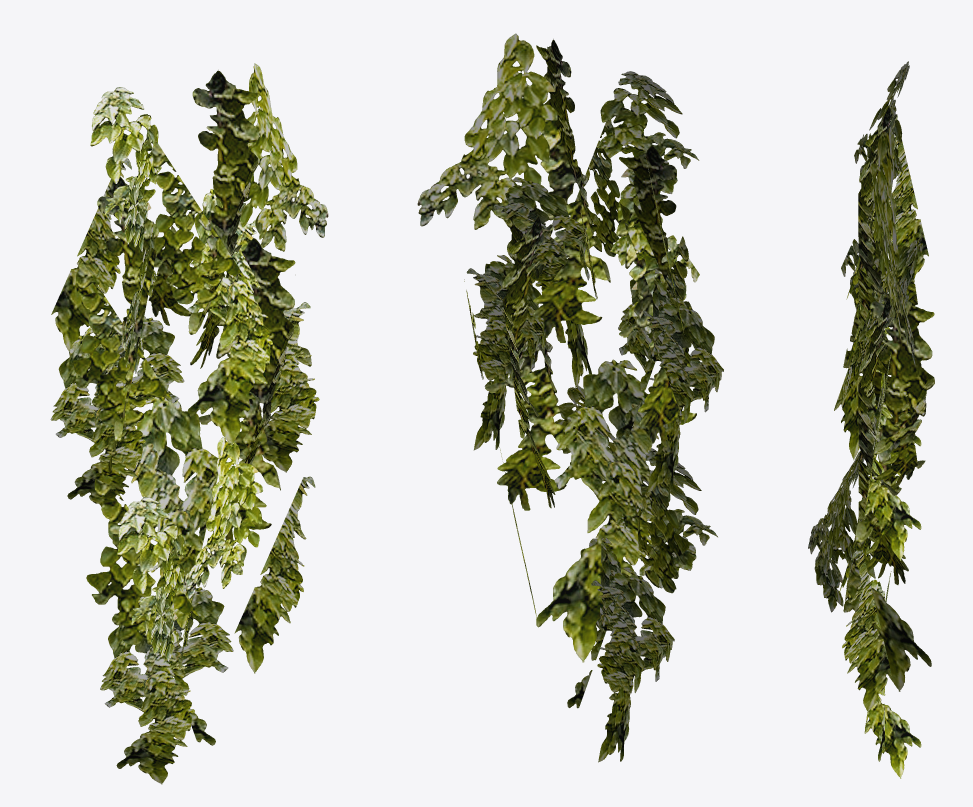
The model's file is ivy13_lod2.fbx.
3 renders of one model, left to right at view 1: azimuth 30°, elevation 25°; view 2: azimuth 150°, elevation 25°; view 3: azimuth 270°, elevation 25°, orthographic.
Parts seen in each view (by area): view 1: Mesh Object; view 2: Mesh Object; view 3: Mesh Object.
Part boxes in pixels (bbox=[...]): Mesh Object: bbox=[50, 63, 328, 784]; Mesh Object: bbox=[417, 33, 723, 762]; Mesh Object: bbox=[808, 61, 934, 778].
Size of the model in its own units: 0.6967 by 1.38 by 0.3016.
